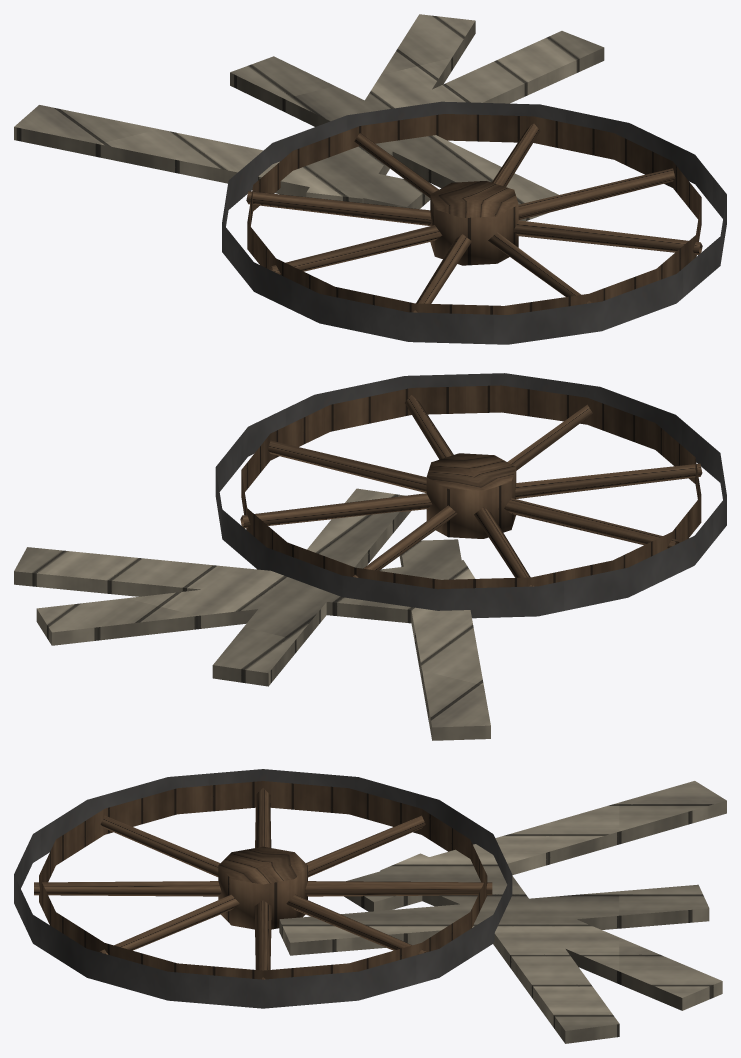
The model's file is Debris_Wheel_1.gltf.
The picture shows the model from 3 angles, top to bottom: view 1: azimuth 30°, elevation 25°; view 2: azimuth 150°, elevation 25°; view 3: azimuth 270°, elevation 25°; orthographic projection. The views are drawn at different scales.
Visible parts, largest first — view 1: Debris_Wheel_1; view 2: Debris_Wheel_1; view 3: Debris_Wheel_1.
Boxes of the visible parts, left/top/right/bottom form: Debris_Wheel_1: left=14, top=14, right=726, bottom=344; Debris_Wheel_1: left=14, top=373, right=726, bottom=740; Debris_Wheel_1: left=14, top=769, right=726, bottom=1043.
Bounding box in the file's own units: 1.66 × 0.144 × 2.
Materials: 3 (3 with a texture image).
